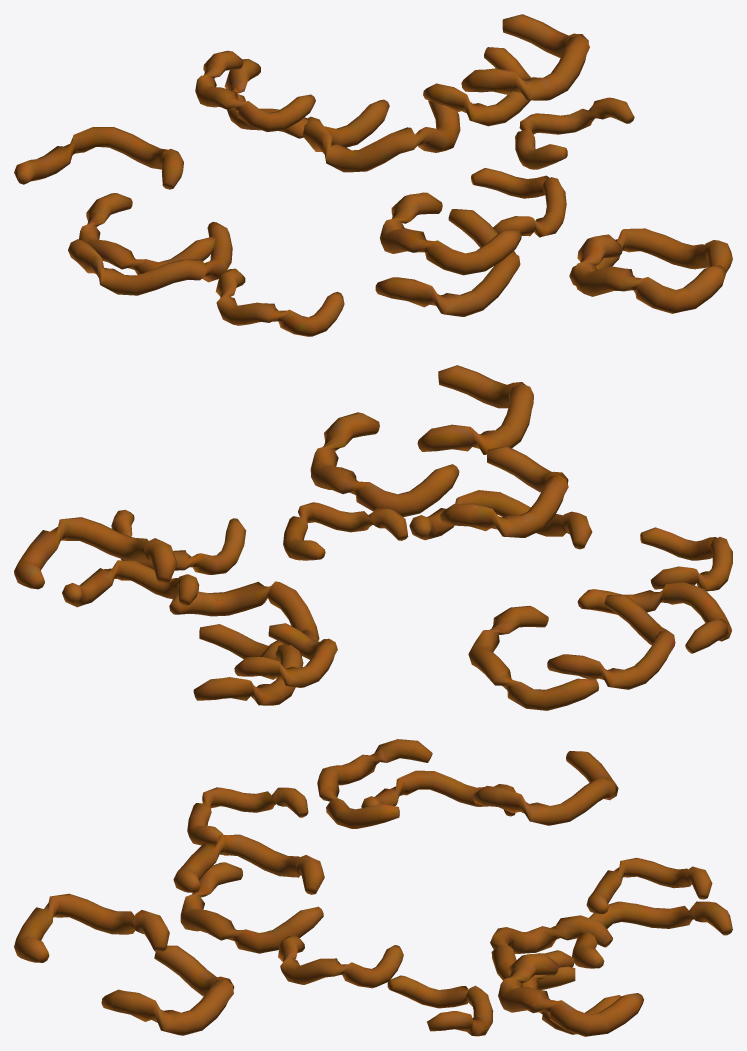
File: crunch_friedonion.glb
The picture shows the model from 3 angles, top to bottom: view 1: azimuth 30°, elevation 25°; view 2: azimuth 150°, elevation 25°; view 3: azimuth 270°, elevation 25°; orthographic projection. The views are drawn at different scales.
Visible parts, largest first — view 1: EX_crunch_friedonion_joined; view 2: EX_crunch_friedonion_joined; view 3: EX_crunch_friedonion_joined.
Part boxes in pixels (left/top/right/bottom): EX_crunch_friedonion_joined: left=14, top=14, right=732, bottom=336; EX_crunch_friedonion_joined: left=14, top=365, right=732, bottom=710; EX_crunch_friedonion_joined: left=14, top=739, right=732, bottom=1036.
Size of the model in its own units: 0.0608 by 0.00851 by 0.0653.
Materials: 1 (1 with a texture image).
